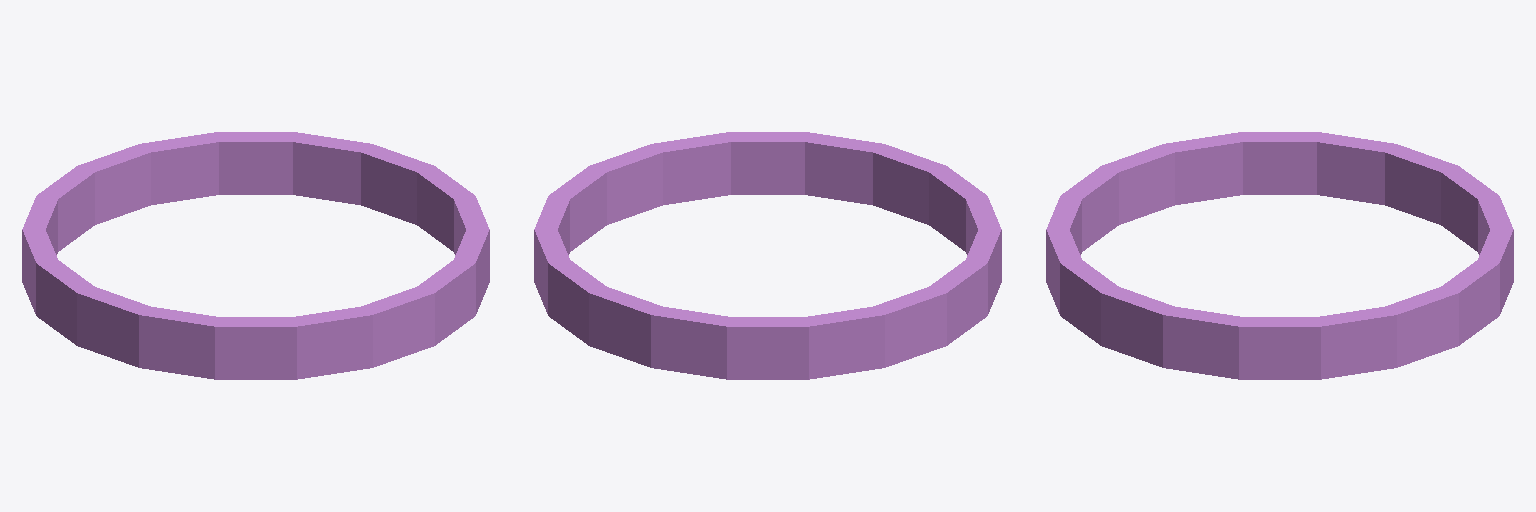
The model's file is StageFrame_Circle.obj.
3 renders of one model, left to right at view 1: azimuth 30°, elevation 25°; view 2: azimuth 150°, elevation 25°; view 3: azimuth 270°, elevation 25°, orthographic.
Parts seen in each view (by area): view 1: Tube001; view 2: Tube001; view 3: Tube001.
Boxes of the visible parts, box(x1,y1,x2,y2) form: Tube001: box(22, 132, 489, 379); Tube001: box(534, 132, 1001, 379); Tube001: box(1046, 132, 1513, 379).
Bounding box in the file's own units: 1970 × 250 × 2000.